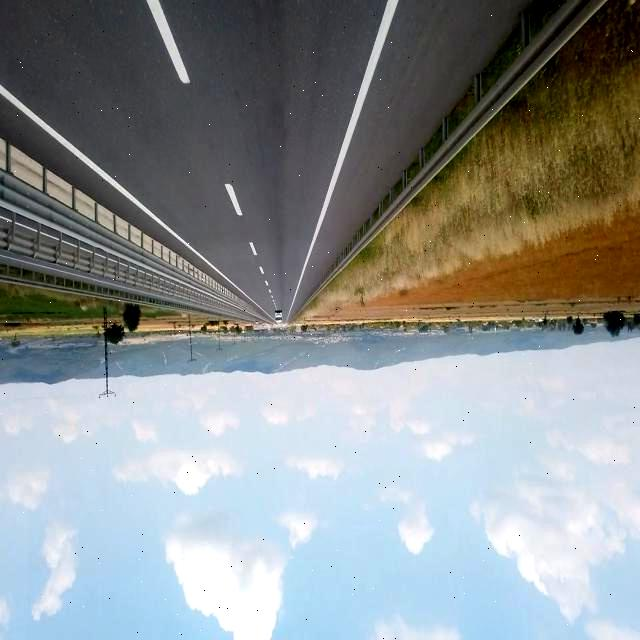lane: (1, 85, 247, 296), (301, 7, 399, 280), (147, 1, 189, 83)
road: (1, 1, 523, 316)
